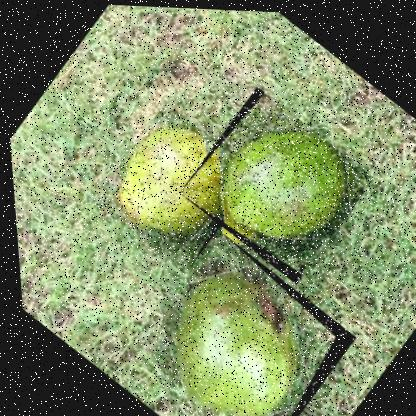guava: (117, 225, 359, 415), (169, 79, 379, 285), (82, 95, 262, 275)
